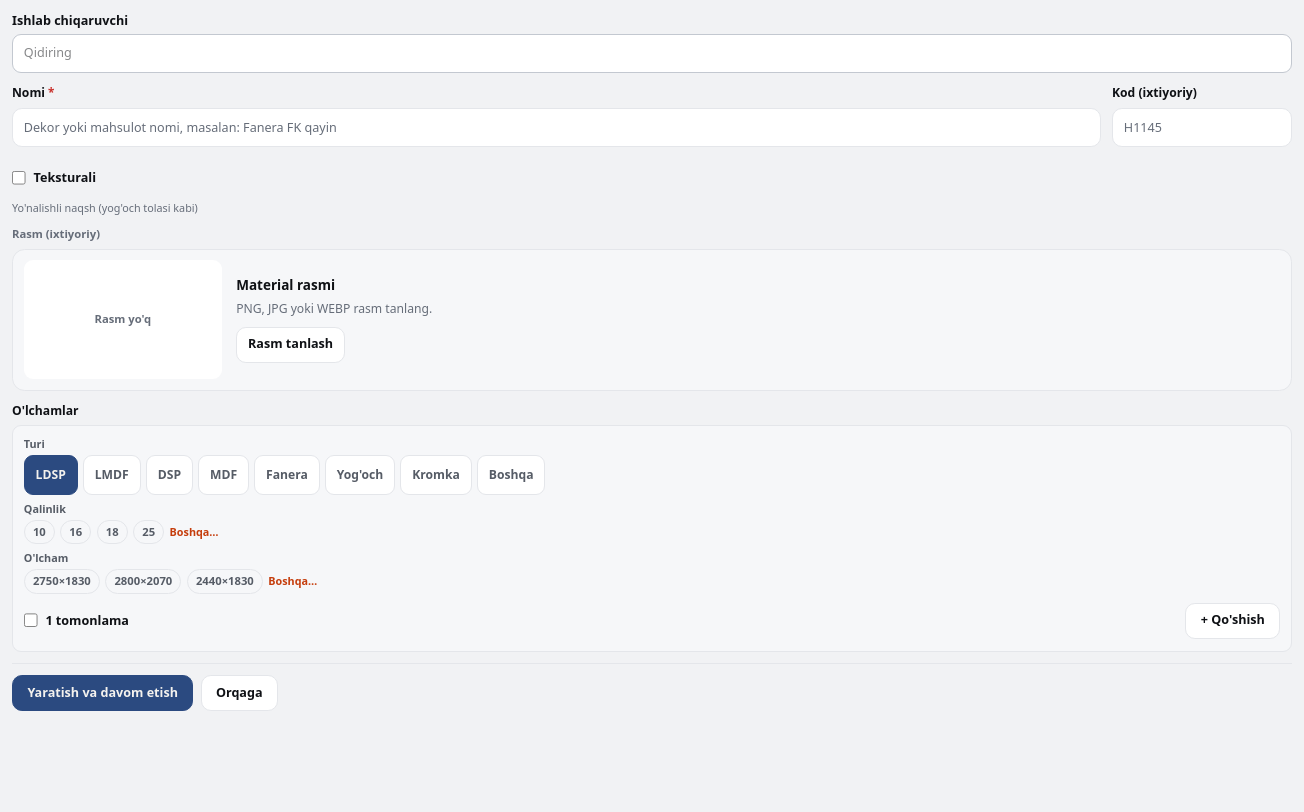
Test: BranchDecorCreateForm — the workshop enters what the library lacks › resets a half-composed o‘lcham when the type switches
Click the button with class "mp-chip" showing "18": (112, 532) left=97, top=520, right=128, bottom=544
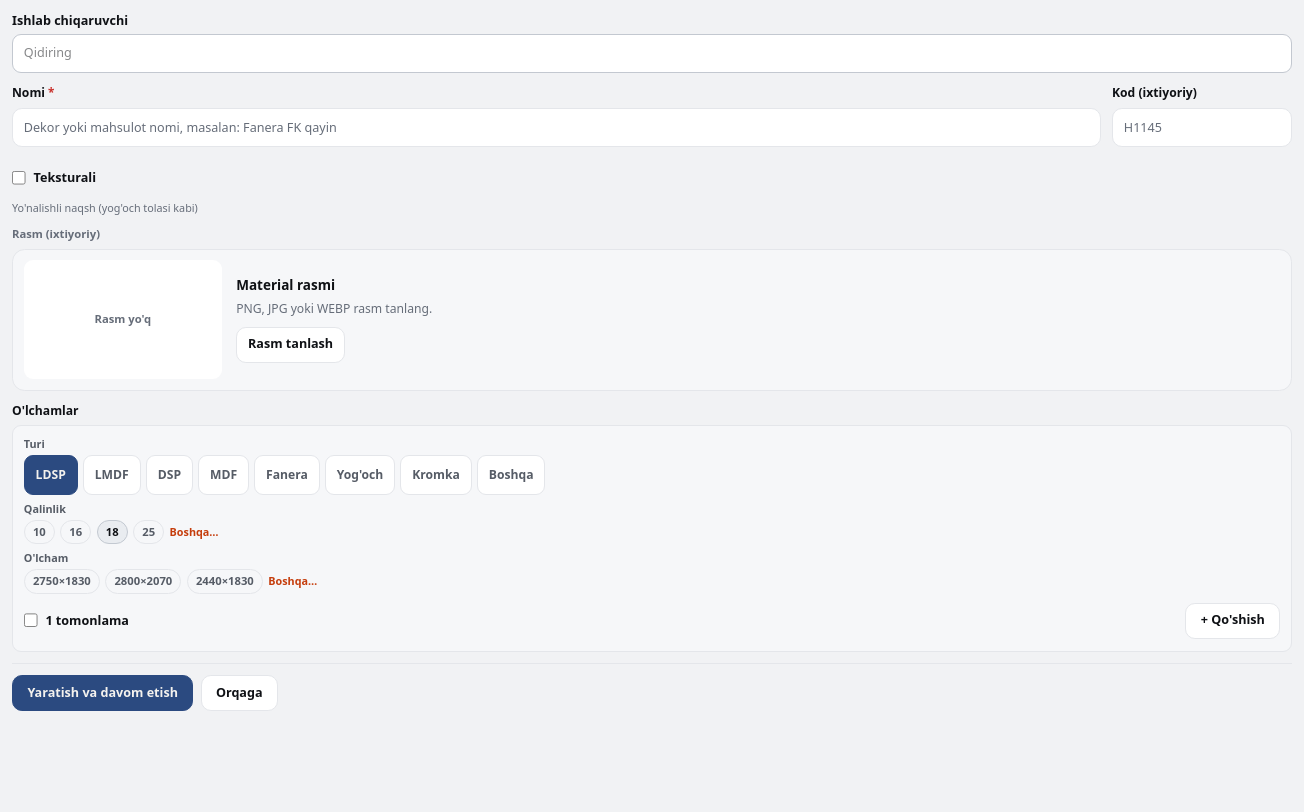
Click the radio button labelled "MDF": (224, 475) left=198, top=455, right=249, bottom=495
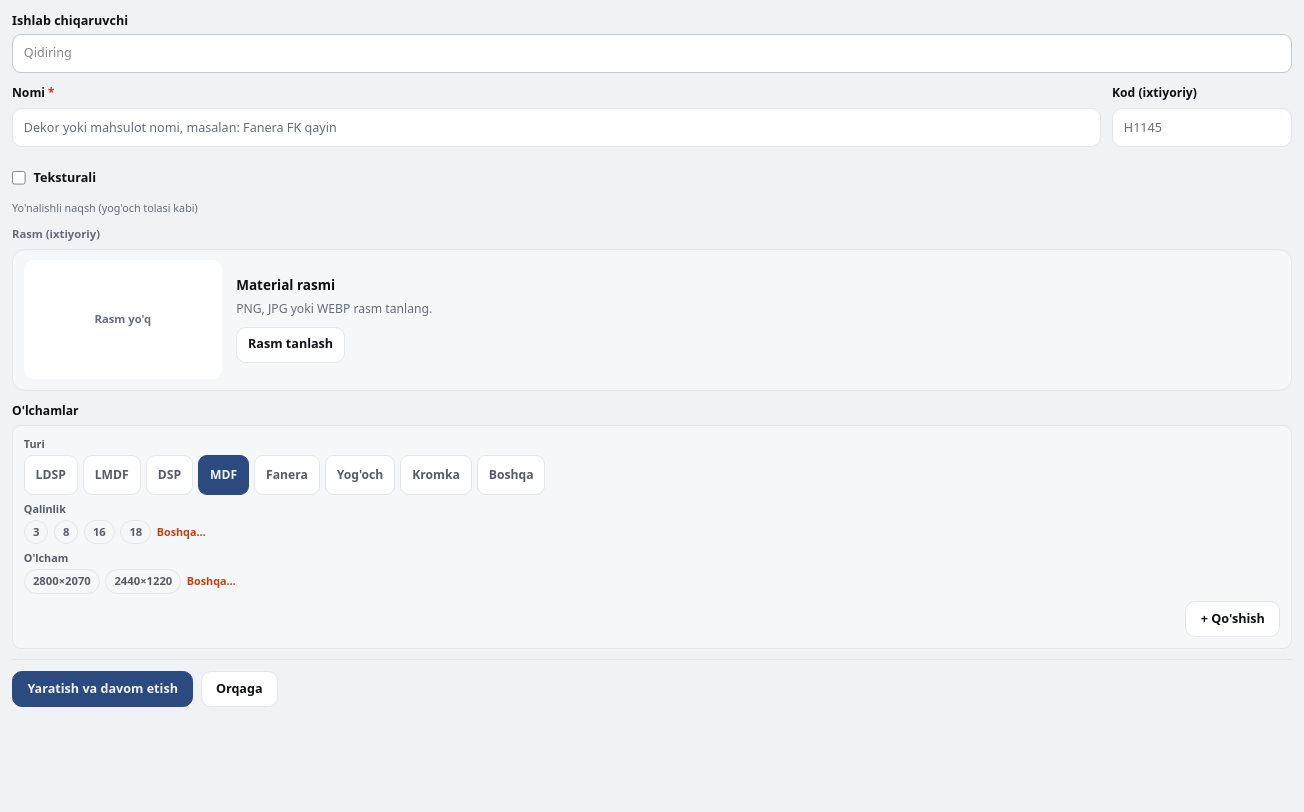
Click the button "+ Qo'shish": (1233, 619) left=1185, top=601, right=1280, bottom=637
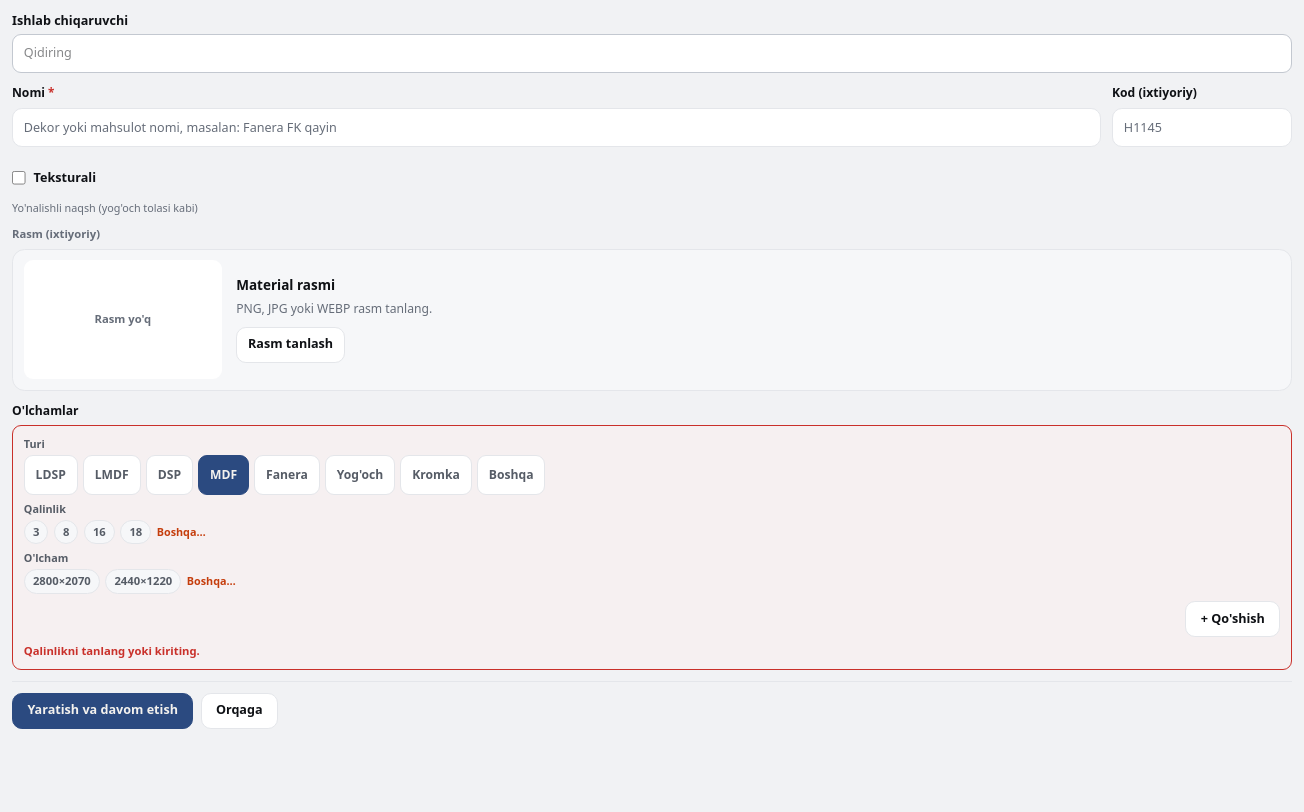
expect the text "Qalinlikni tanlang" is shown: met, box left=24, top=643, right=200, bottom=658
